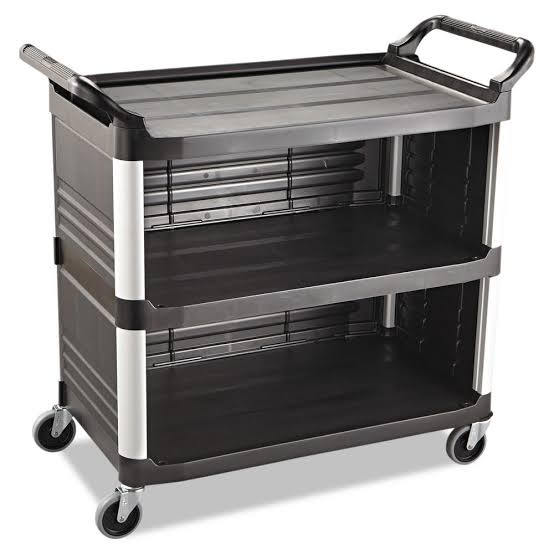Carts: (16, 12, 536, 536)
